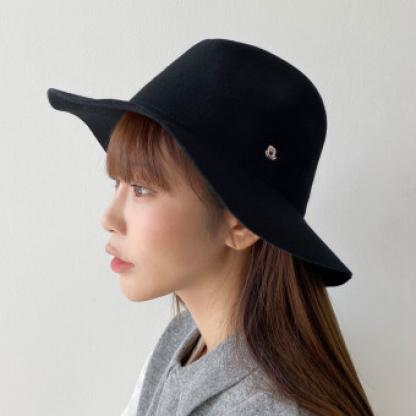hat: (41, 34, 358, 295)
